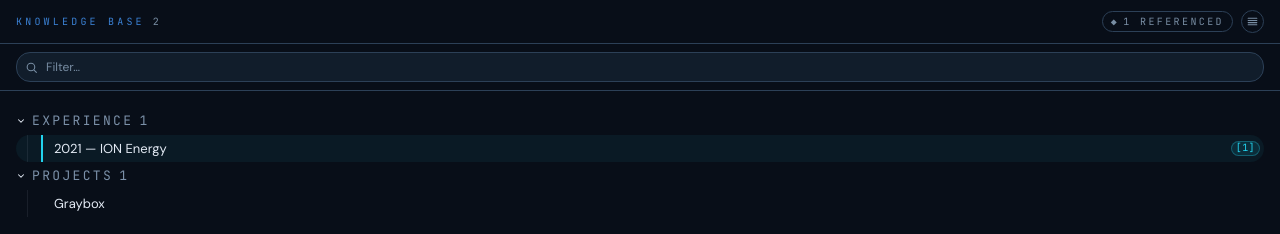
Test: KbPanel header › cited pill is disabled with no citations and toggles the lens when cited
expect the text "Projects" is shown: met, box x1=32 y1=166 x2=113 y2=186
Click the button "◆ 1 Referenced" at {"x": 1167, "y": 22}, box x1=1102 y1=11 x2=1233 y2=32
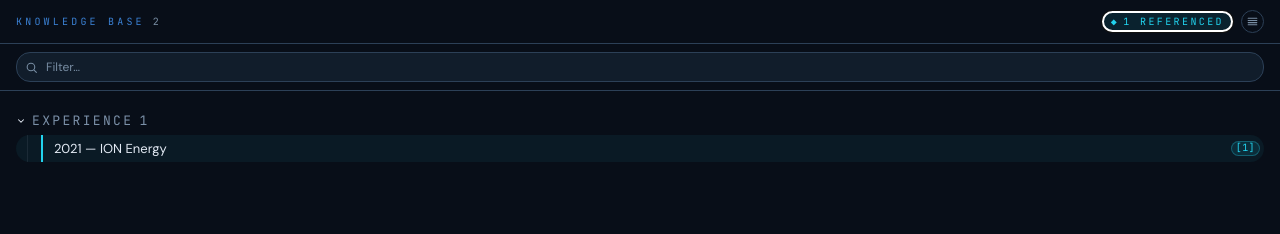
expect the text "Experience" is shown: met, box x1=32 y1=111 x2=133 y2=130
expect the button "Projects" is gone: met
